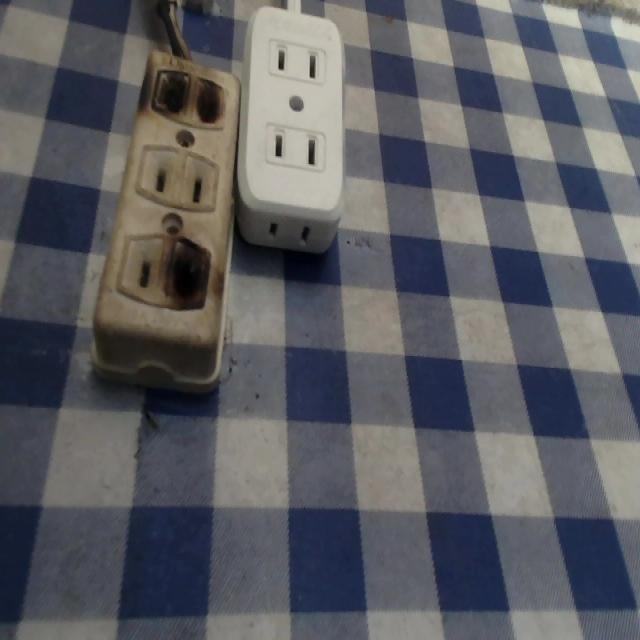-: (150, 66, 233, 138), (163, 235, 213, 312)
